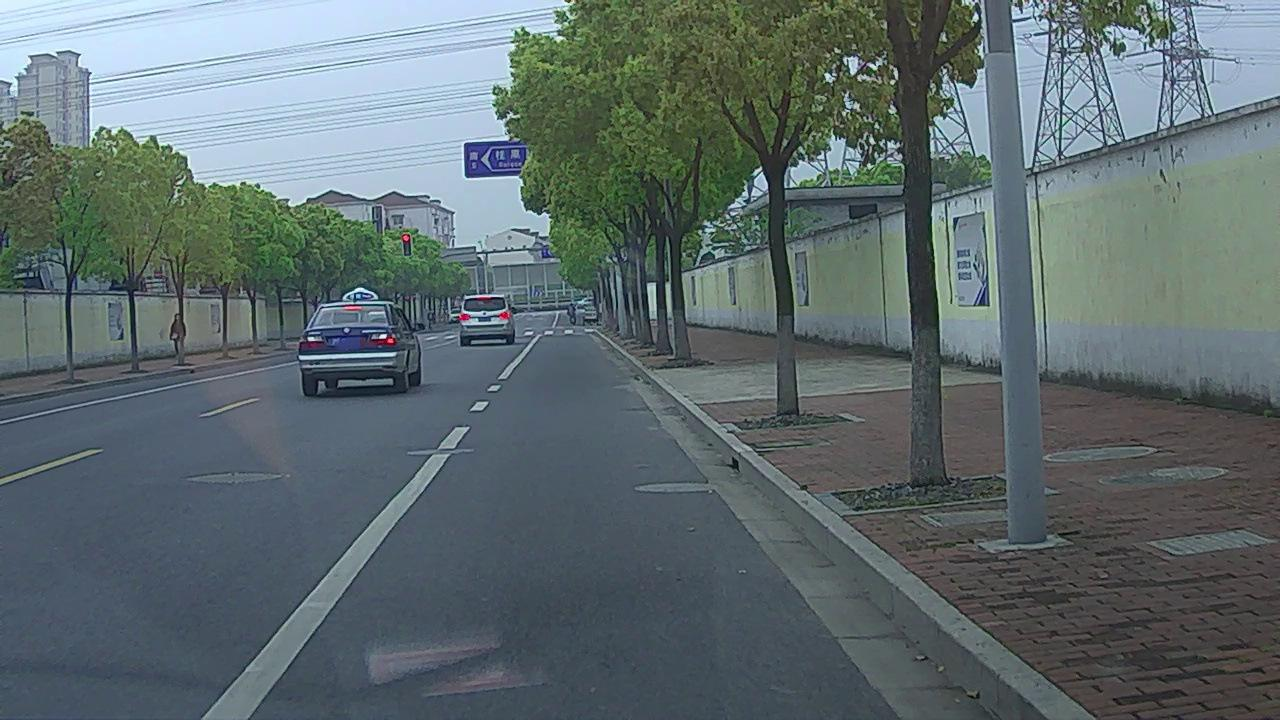traffic_light: (401, 234, 412, 255)
